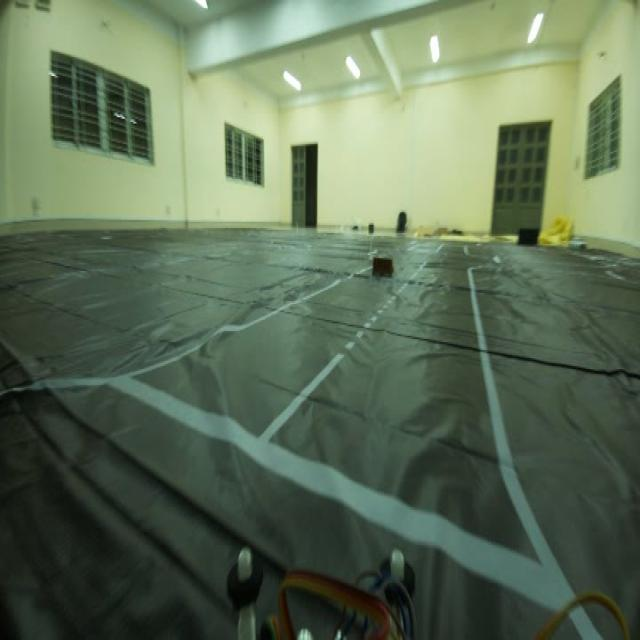roadblock: (372, 250, 394, 285)
